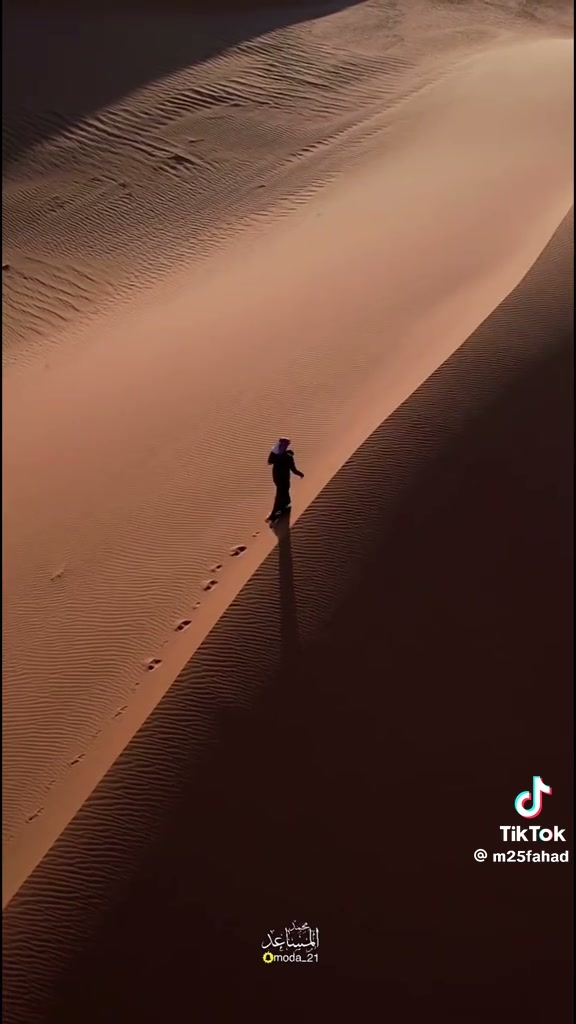human_footprint: (202, 562, 223, 591), (27, 807, 43, 822), (175, 618, 190, 631), (146, 658, 161, 671), (69, 753, 83, 766), (203, 578, 217, 591), (230, 545, 245, 556), (114, 705, 127, 717), (210, 562, 222, 572), (193, 601, 200, 610)
